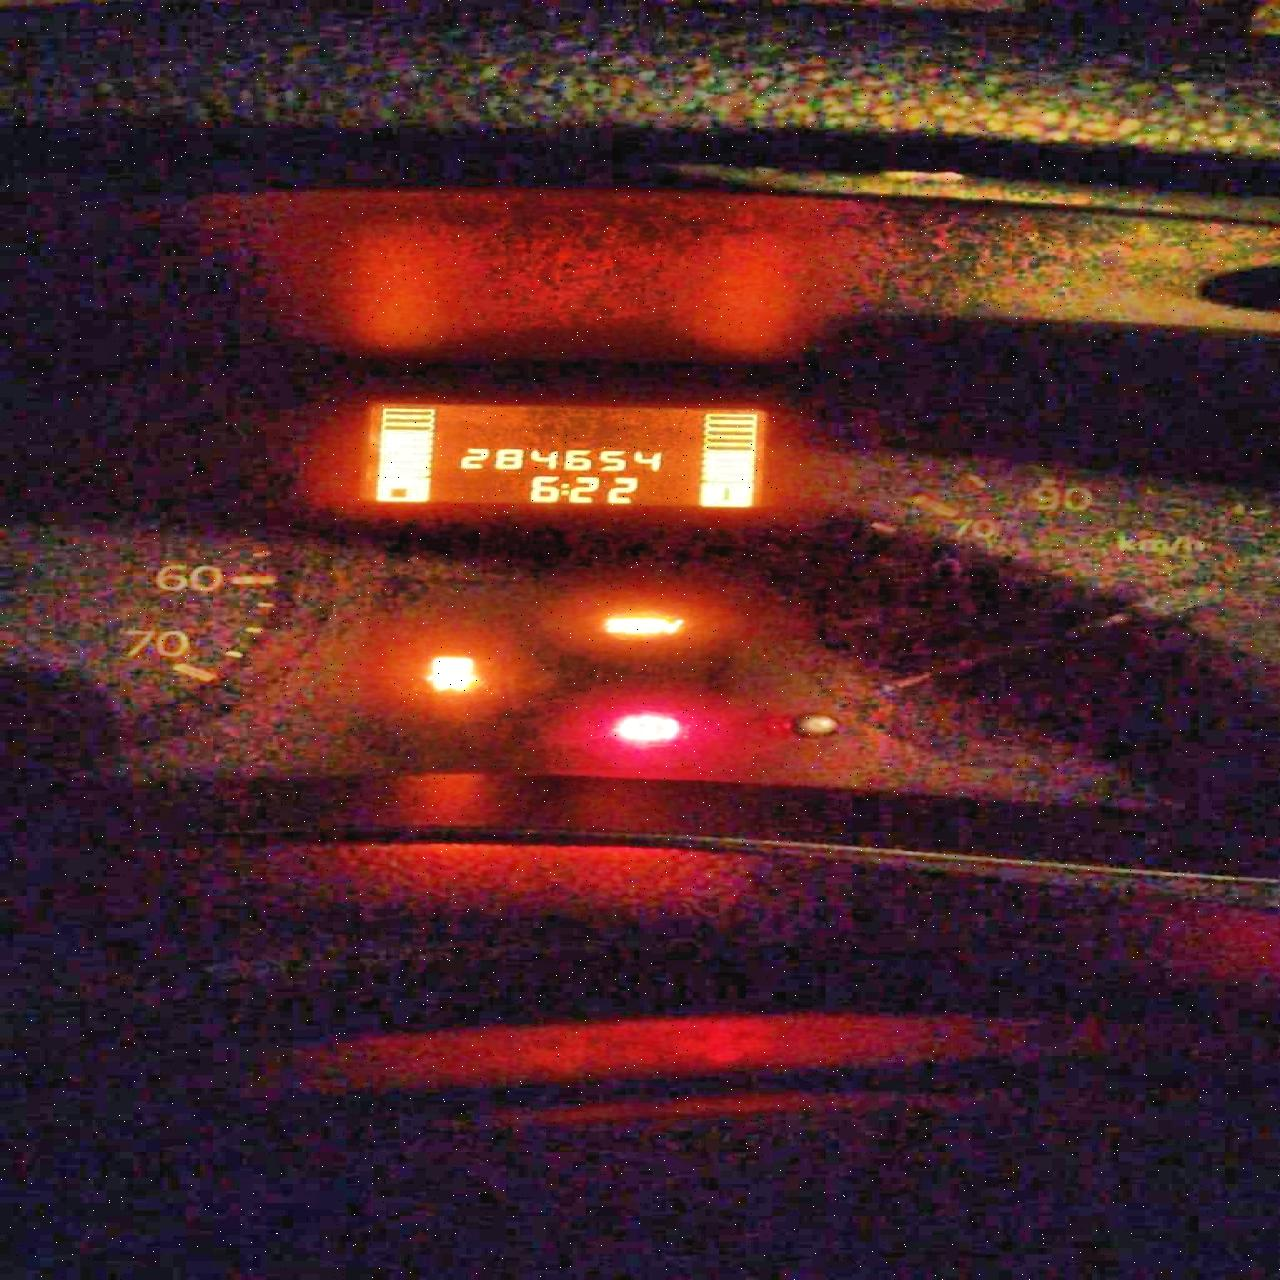2: (567, 475, 599, 503), (606, 477, 638, 504), (456, 448, 489, 469)
4: (527, 449, 558, 470), (631, 450, 661, 471)
5: (595, 450, 627, 471)
6: (527, 476, 558, 503), (563, 449, 592, 470)
8: (492, 448, 524, 470)
X: (558, 482, 570, 496)
odometer: (349, 399, 775, 511)
